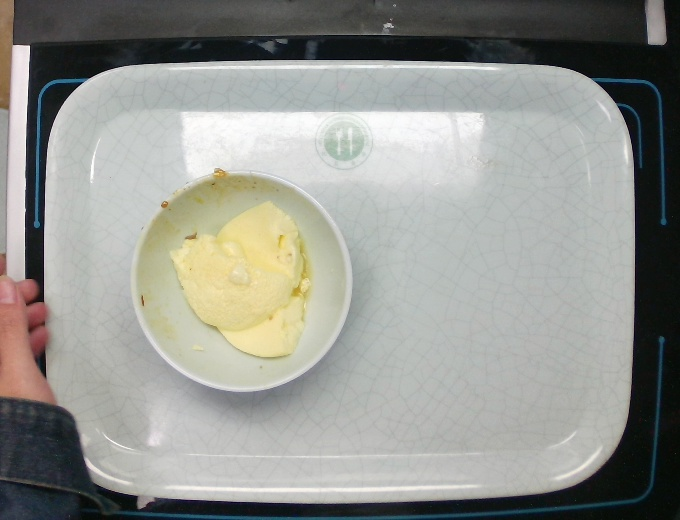JYsf-Fan_Wan: (125, 158, 357, 405)
